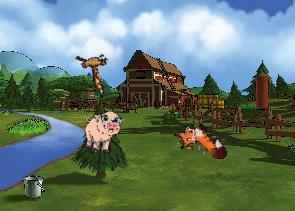eagle: (65, 41, 124, 98)
fox: (170, 113, 230, 175)
pig: (80, 108, 124, 155)
